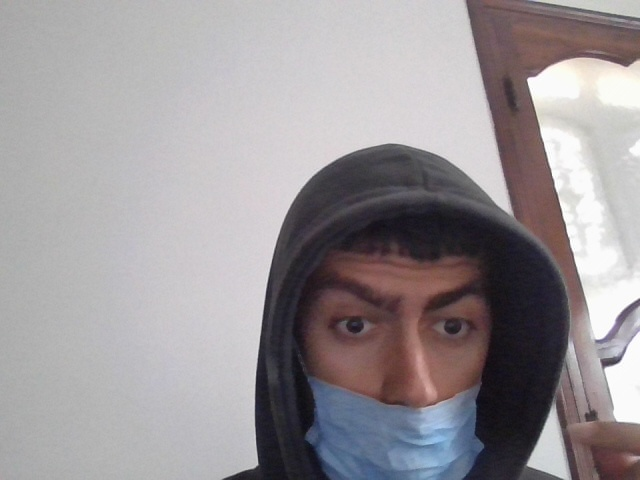mask_weared_incorrect: (283, 215, 489, 480)
